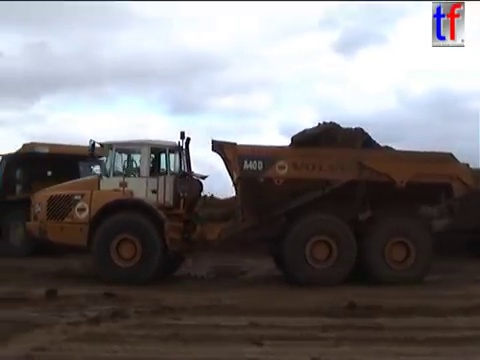truck: (22, 128, 478, 288), (1, 138, 118, 260)
